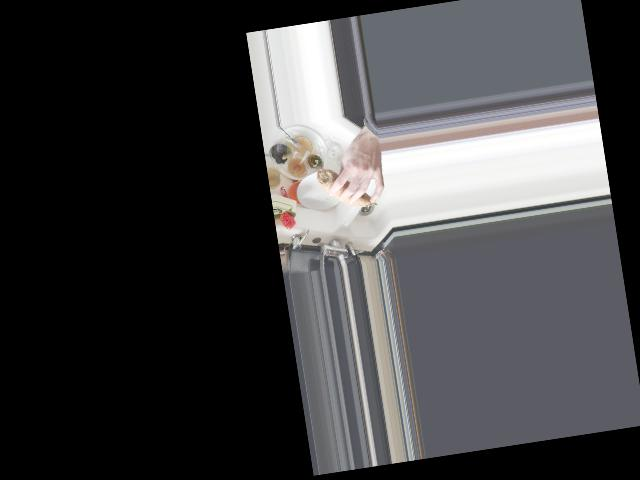sweet_potato: (317, 162, 378, 213)
